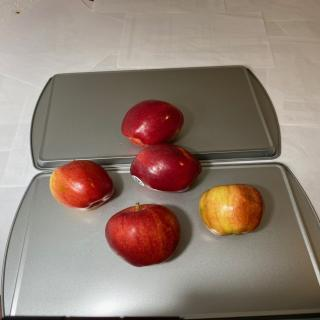Apple: (105, 202, 181, 267), (130, 143, 202, 193), (198, 183, 264, 236), (49, 159, 114, 211), (121, 99, 184, 149)
